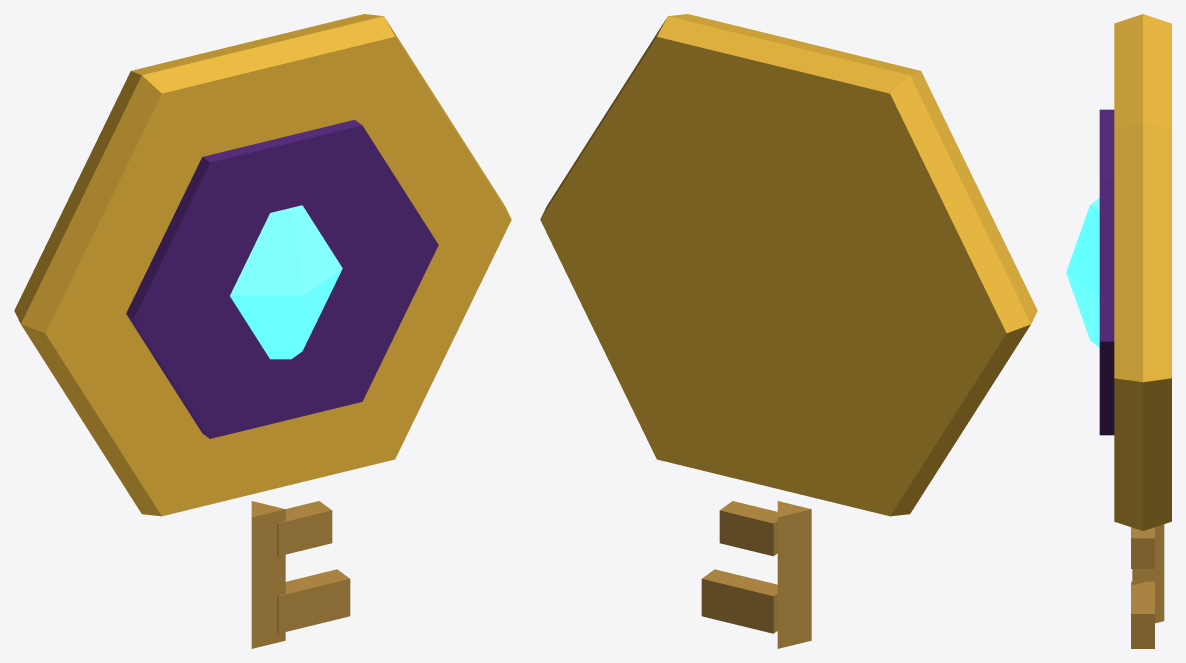
Rendered from SM_Prop_CipherKey_LQ.glb.
3 renders of one model, left to right at view 1: azimuth 30°, elevation 25°; view 2: azimuth 150°, elevation 25°; view 3: azimuth 270°, elevation 25°, orthographic. The views are drawn at different scales.
Parts seen in each view (by area): view 1: SM_Prop_CipherKey_LQ; view 2: SM_Prop_CipherKey_LQ; view 3: SM_Prop_CipherKey_LQ.
Boxes of the visible parts, x1,y1,x2,y2 form: SM_Prop_CipherKey_LQ: [14, 14, 511, 648]; SM_Prop_CipherKey_LQ: [540, 14, 1037, 648]; SM_Prop_CipherKey_LQ: [1066, 14, 1171, 648].
Bounding box in the file's own units: 0.54 × 0.6338 × 0.11.
1 material, 1 textured.
